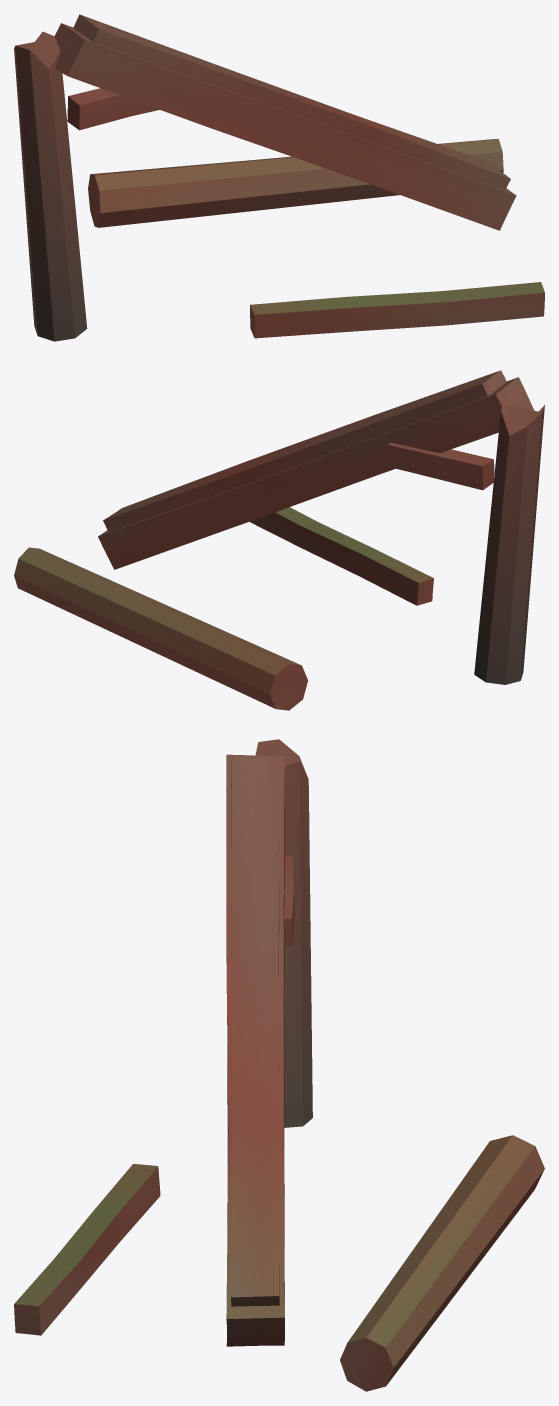
The model's file is torii_fallen.glb.
The picture shows the model from 3 angles, top to bottom: view 1: azimuth 30°, elevation 25°; view 2: azimuth 150°, elevation 25°; view 3: azimuth 270°, elevation 25°; orthographic projection. The views are drawn at different scales.
Parts seen in each view (by area): view 1: torii; view 2: torii; view 3: torii.
Boxes of the visible parts, <box> form: torii: <box>14,14,544,341</box>; torii: <box>14,370,544,710</box>; torii: <box>14,739,544,1391</box>.
Size of the model in its own units: 4.53 by 2.57 by 3.32.
